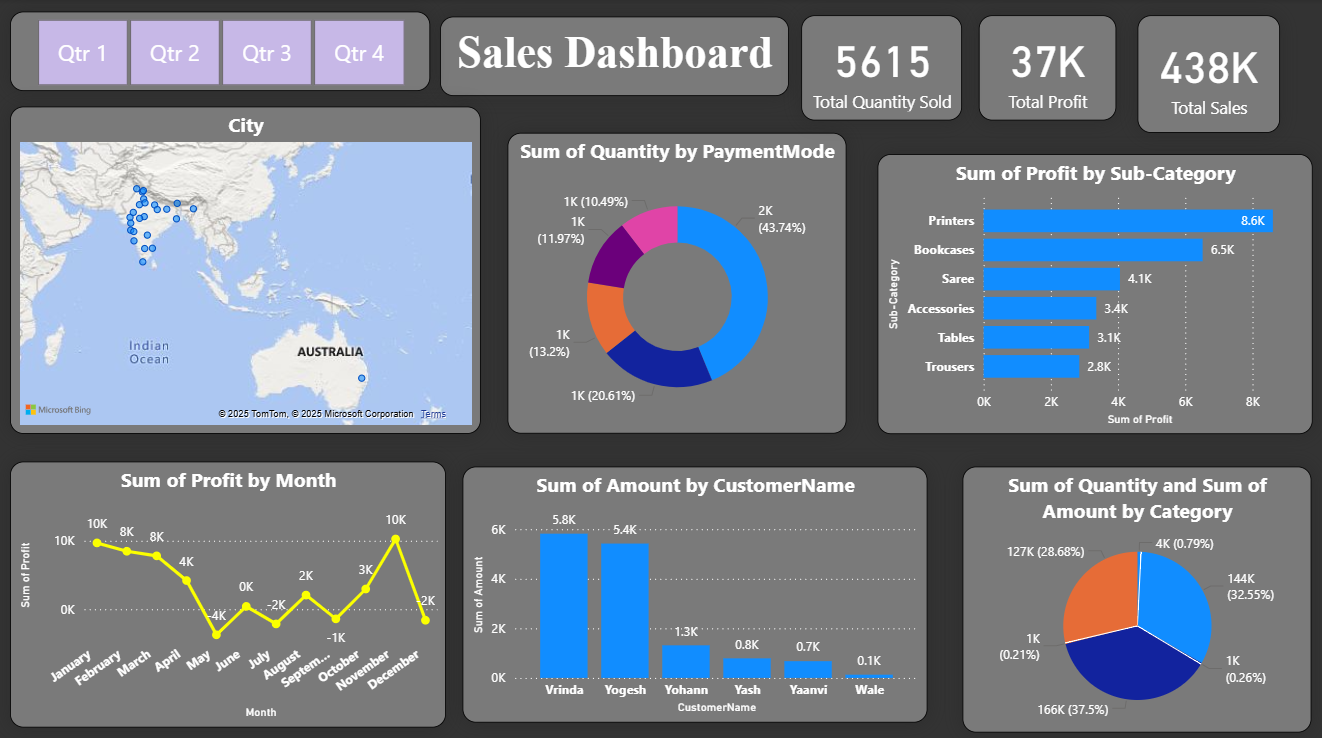

What the dashboard file says about the page in this screenshot:
{"tool":"powerbi","page":{"name":"Page 1","canvas":[1280,720],"ordinal":0},"visuals":[{"type":"textbox","box":[424.5,16.9,336.5,77.2],"z":0},{"type":"lineChart","fields":{"Category":["Orders.Order Date.Variation.Date Hierarchy.Month"],"Y":["Details.Profit"]},"box":[9.6,446.2,420.9,256.9],"z":1000},{"type":"barChart","fields":{"Y":["Details.Profit"],"Category":["Details.Sub-Category"]},"box":[847.1,150,420,270],"z":2000},{"type":"pieChart","fields":{"Y":["Details.Quantity","Details.Amount"],"Category":["Details.Category"]},"box":[928.6,451.1,336.5,256.9],"z":3000},{"type":"donutChart","fields":{"Y":["Details.Quantity"],"Category":["Details.PaymentMode"]},"box":[489.6,129,326.8,290.7],"z":4000},{"type":"clusteredColumnChart","fields":{"Category":["Orders.CustomerName"],"Y":["Details.Amount"]},"box":[446.2,451.1,448.6,247.2],"z":5000},{"type":"slicer","fields":{"Values":["Orders.Order Date.Variation.Date Hierarchy.Quarter"]},"box":[9.6,12.1,405.2,77.2],"z":6000},{"type":"map","fields":{"Category":["Orders.City"]},"box":[10,104.3,454.3,315.7],"z":7000},{"type":"card","fields":{"Values":["Details.Total Profit"]},"box":[944.3,15.7,132.7,101.3],"z":9000},{"type":"card","fields":{"Values":["Details.Total Quantity Sold"]},"box":[773.1,15.7,155.6,101.3],"z":10000},{"type":"card","fields":{"Values":["Details.Total Sales"]},"box":[1097.5,15.7,137.5,113.4],"z":11000}]}

Visuals, with their boxes in screenshot pixels (x1, y1, x2, y2), scaled from the page's 1280x720 canvas onto the 1322x738 screenshot:
textbox: [438,17,786,96]
lineChart - Orders.Order Date.Variation.Date Hierarchy.Month x Details.Profit: [10,457,445,721]
barChart - Details.Profit x Details.Sub-Category: [875,154,1309,430]
pieChart - Details.Quantity x Details.Amount: [959,462,1307,726]
donutChart - Details.Quantity x Details.PaymentMode: [506,132,843,430]
clusteredColumnChart - Orders.CustomerName x Details.Amount: [461,462,924,716]
slicer - Orders.Order Date.Variation.Date Hierarchy.Quarter: [10,12,428,92]
map - Orders.City: [10,107,480,430]
card - Details.Total Profit: [975,16,1112,120]
card - Details.Total Quantity Sold: [798,16,959,120]
card - Details.Total Sales: [1134,16,1276,132]
